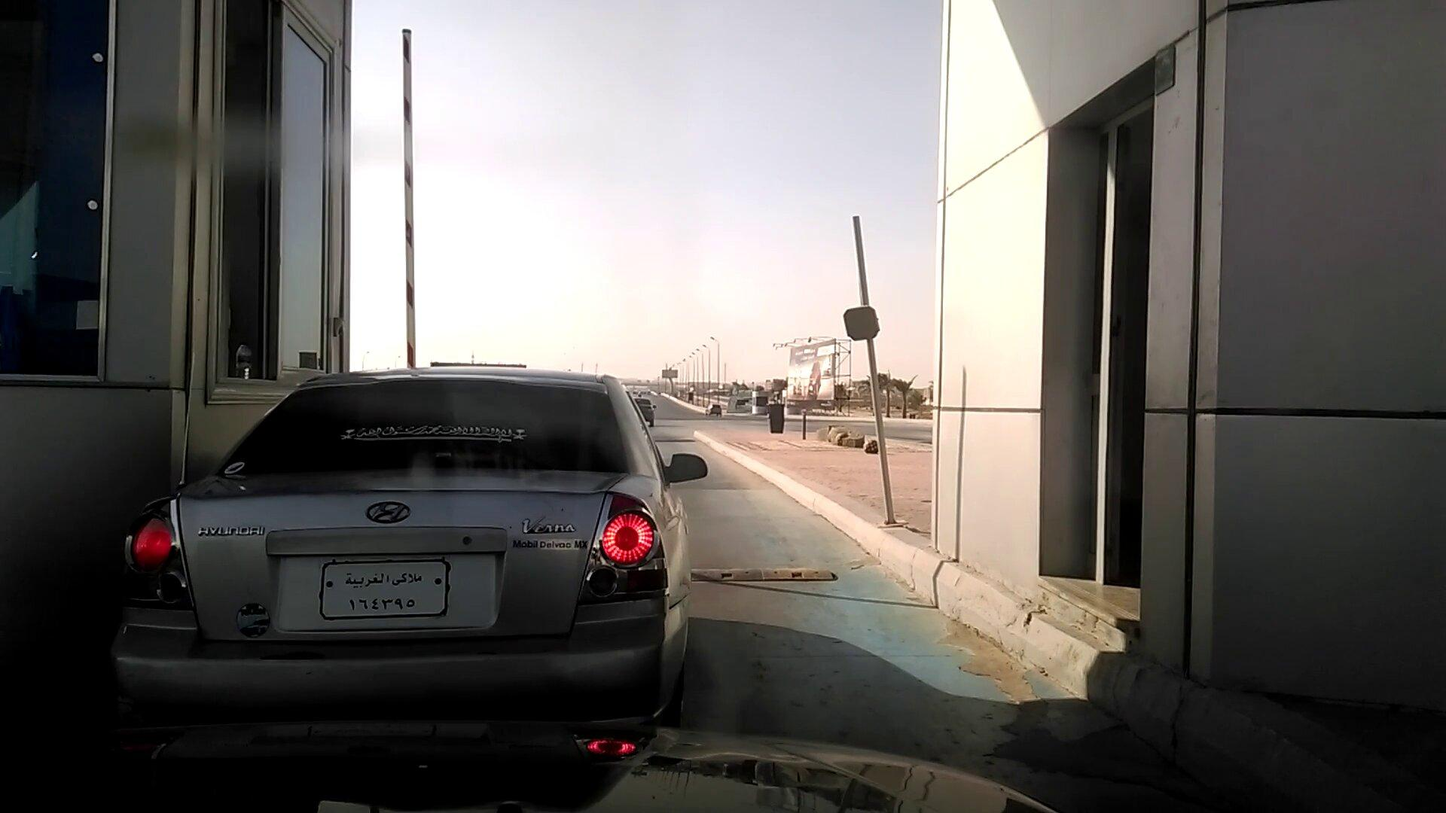Bump: (702, 555, 842, 587)
